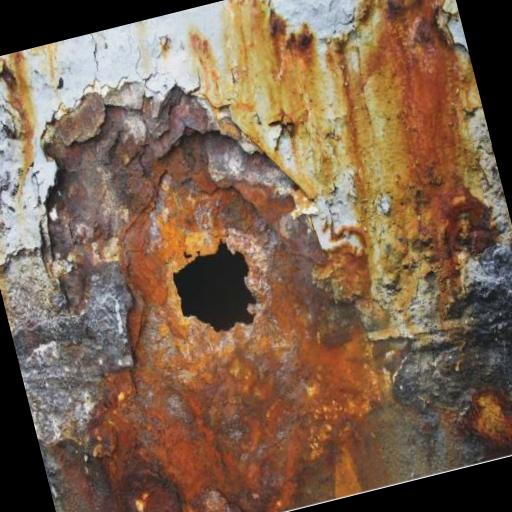segmentation: (328, 0, 512, 498), (48, 432, 183, 512)
